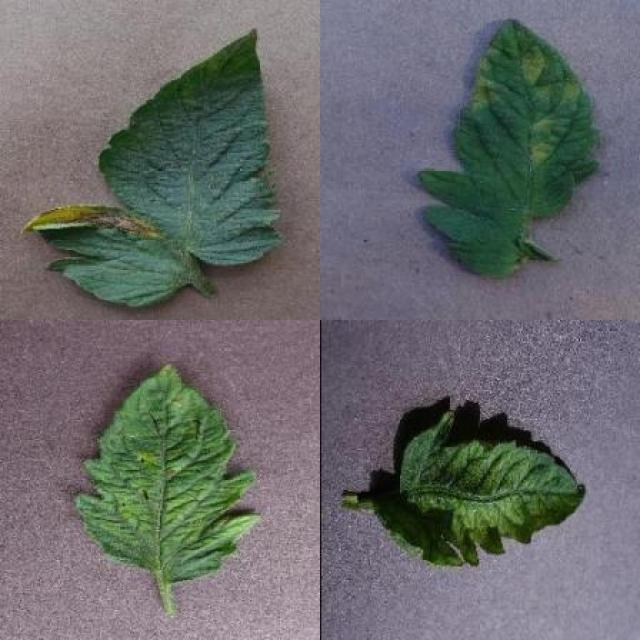Early Blight: (17, 30, 286, 307)
Leaf Mold: (415, 19, 601, 277)
Mosaic Virus: (74, 362, 262, 584), (375, 408, 591, 566)
